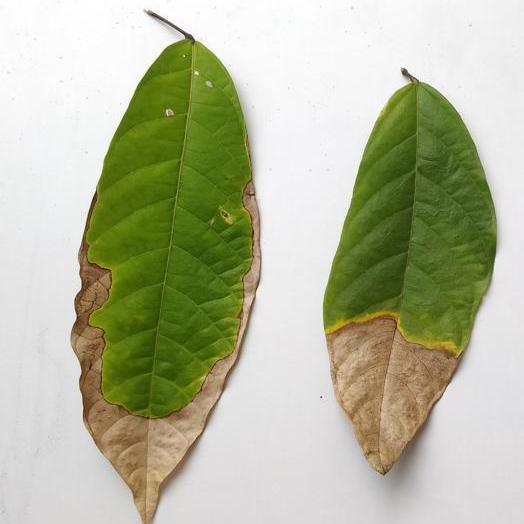Potassium: (71, 11, 259, 523), (323, 69, 495, 473)
